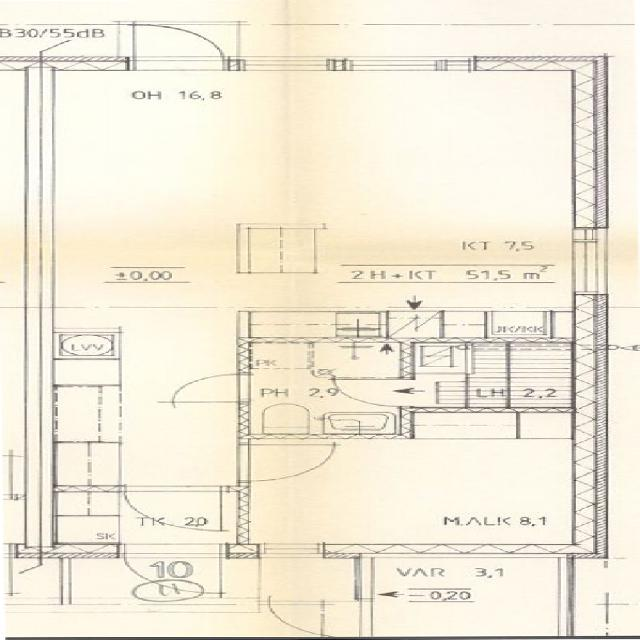door: (123, 544, 220, 598), (124, 486, 221, 531), (134, 21, 222, 70), (237, 444, 340, 481), (272, 600, 372, 634), (170, 374, 249, 402), (336, 379, 414, 406)
